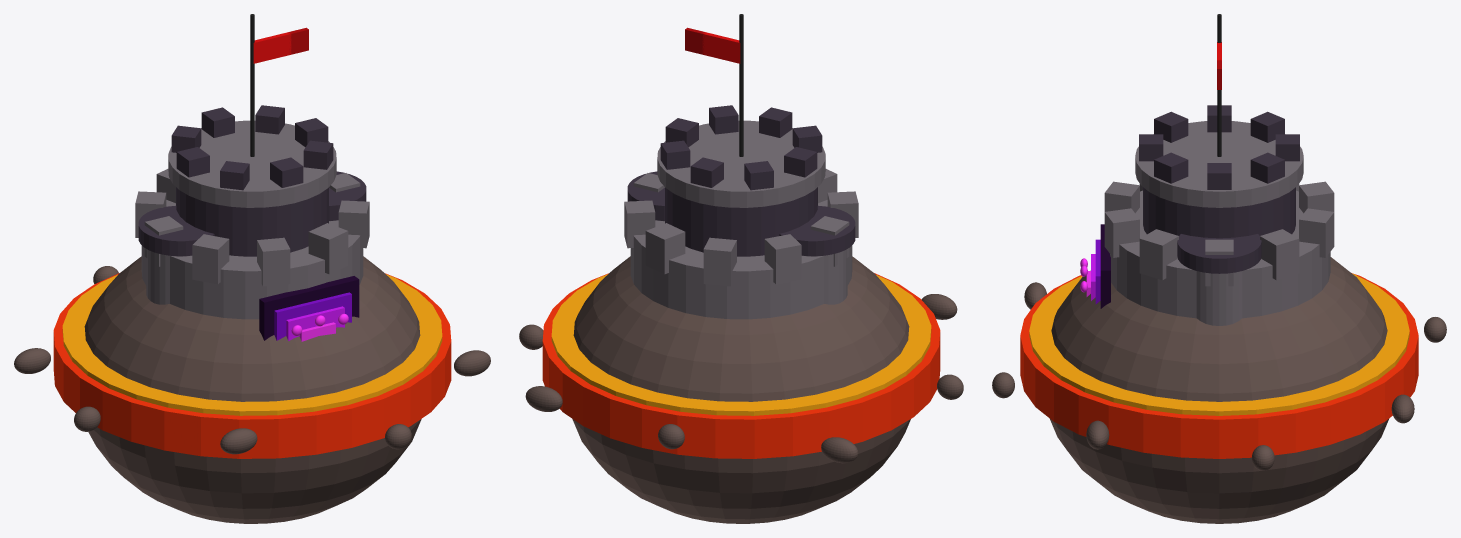
The model's file is planeta_castillo_lava.obj.
3 renders of one model, left to right at view 1: azimuth 30°, elevation 25°; view 2: azimuth 150°, elevation 25°; view 3: azimuth 270°, elevation 25°, orthographic.
Visible parts, largest first — view 1: Planeta_Roca, Plataforma_Lava_Curva, Lava_Superior, Corona_Central, Fortaleza_Base, Fortaleza_Superior, Portal_Exterior, Corona_Izquierda, Almena_Inferior_09, Almena_Inferior_07, Almena_Inferior_08, Portal_Medio (+20 smaller); view 2: Planeta_Roca, Plataforma_Lava_Curva, Fortaleza_Base, Lava_Superior, Corona_Central, Fortaleza_Superior, Corona_Izquierda, Almena_Inferior_03, Almena_Inferior_05, Almena_Inferior_04, Torre_Izquierda, Almena_Inferior_02 (+18 smaller); view 3: Planeta_Roca, Plataforma_Lava_Curva, Lava_Superior, Fortaleza_Base, Corona_Central, Fortaleza_Superior, Corona_Derecha, Torre_Derecha, Almena_Inferior_02, Almena_Inferior_10, Almena_Inferior_03, Almena_Inferior_09 (+14 smaller).
Part boxes in pixels (x1,y1,x2,y2): Planeta_Roca: [84, 256, 421, 523]; Plataforma_Lava_Curva: [53, 273, 451, 458]; Lava_Superior: [62, 274, 442, 415]; Corona_Central: [168, 120, 336, 207]; Fortaleza_Base: [141, 200, 363, 319]; Fortaleza_Superior: [176, 187, 328, 256]; Portal_Exterior: [259, 276, 359, 340]; Corona_Izquierda: [138, 205, 214, 256]; Almena_Inferior_09: [308, 223, 348, 274]; Almena_Inferior_07: [192, 234, 229, 284]; Almena_Inferior_08: [257, 237, 290, 286]; Portal_Medio: [274, 292, 351, 340]; Planeta_Roca: [572, 256, 910, 523]; Plataforma_Lava_Curva: [542, 273, 940, 458]; Fortaleza_Base: [630, 200, 852, 319]; Lava_Superior: [551, 274, 931, 415]; Corona_Central: [657, 120, 825, 207]; Fortaleza_Superior: [665, 187, 817, 256]; Corona_Izquierda: [779, 205, 855, 256]; Almena_Inferior_03: [645, 223, 685, 274]; Almena_Inferior_05: [764, 234, 801, 284]; Almena_Inferior_04: [703, 237, 736, 286]; Torre_Izquierda: [802, 249, 847, 304]; Almena_Inferior_02: [624, 200, 655, 248]; Planeta_Roca: [1050, 257, 1388, 523]; Plataforma_Lava_Curva: [1020, 273, 1418, 458]; Lava_Superior: [1029, 273, 1409, 415]; Fortaleza_Base: [1110, 190, 1330, 318]; Corona_Central: [1135, 121, 1303, 207]; Fortaleza_Superior: [1143, 187, 1295, 238]; Corona_Derecha: [1177, 234, 1261, 273]; Torre_Derecha: [1196, 271, 1242, 325]; Almena_Inferior_02: [1260, 229, 1299, 280]; Almena_Inferior_10: [1139, 229, 1178, 280]; Almena_Inferior_03: [1299, 208, 1334, 257]; Almena_Inferior_09: [1104, 208, 1139, 257].
Size of the model in its own units: 7.2 by 8.45 by 7.12.
